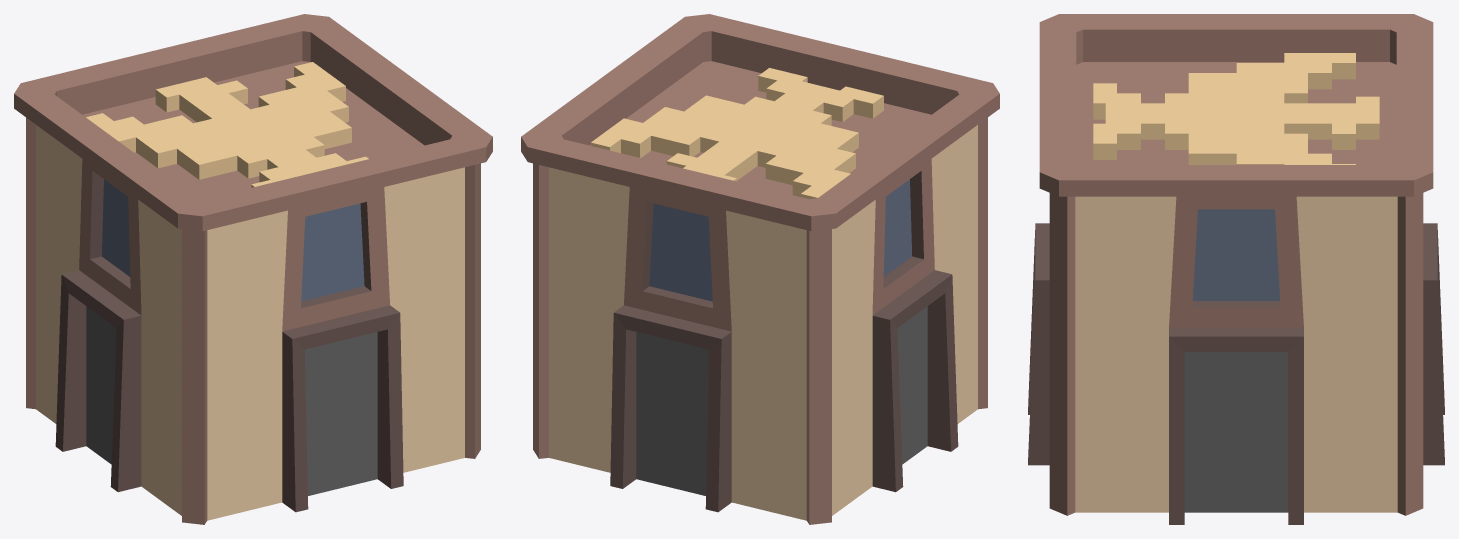
The picture shows the model from 3 angles, left to right: view 1: azimuth 30°, elevation 25°; view 2: azimuth 150°, elevation 25°; view 3: azimuth 270°, elevation 25°; orthographic projection. The views are drawn at different scales.
Parts seen in each view (by area): view 1: Cube.042; view 2: Cube.042; view 3: Cube.042.
Part boxes in pixels (left/top/right/bottom): Cube.042: left=14, top=14, right=492, bottom=524; Cube.042: left=521, top=14, right=999, bottom=524; Cube.042: left=1028, top=14, right=1444, bottom=524.
Size of the model in its own units: 233 by 209 by 233.
